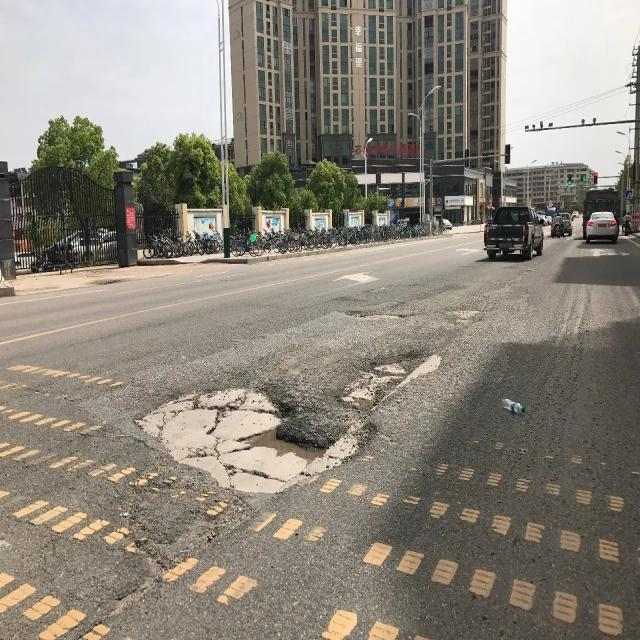Pothole: (138, 382, 362, 495), (347, 350, 439, 417), (329, 305, 411, 325), (442, 310, 478, 330)
